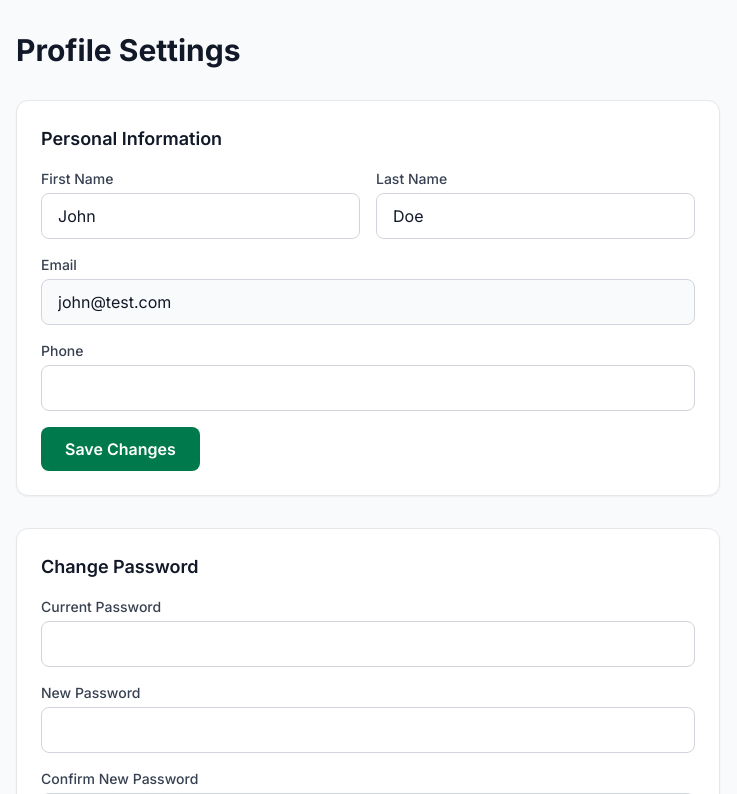
Test: ProfilePage › should show success message when password changed
Type "old123" into the password field below "Current Password" at (368, 644), box [41, 621, 695, 667]
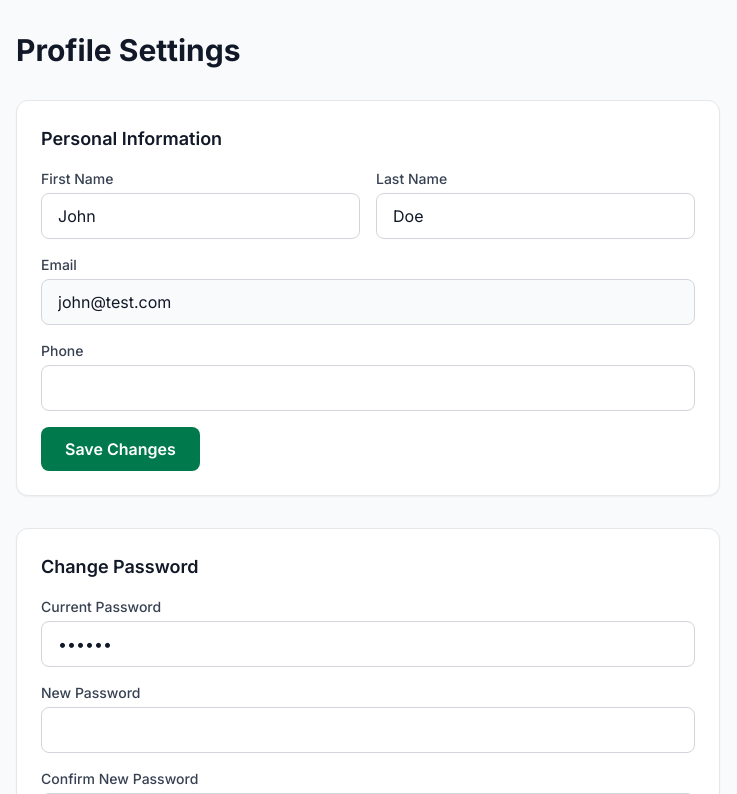
Type "new456Pass" into the 2nd password field at (368, 730), box [41, 707, 695, 753]
(page scrolled)
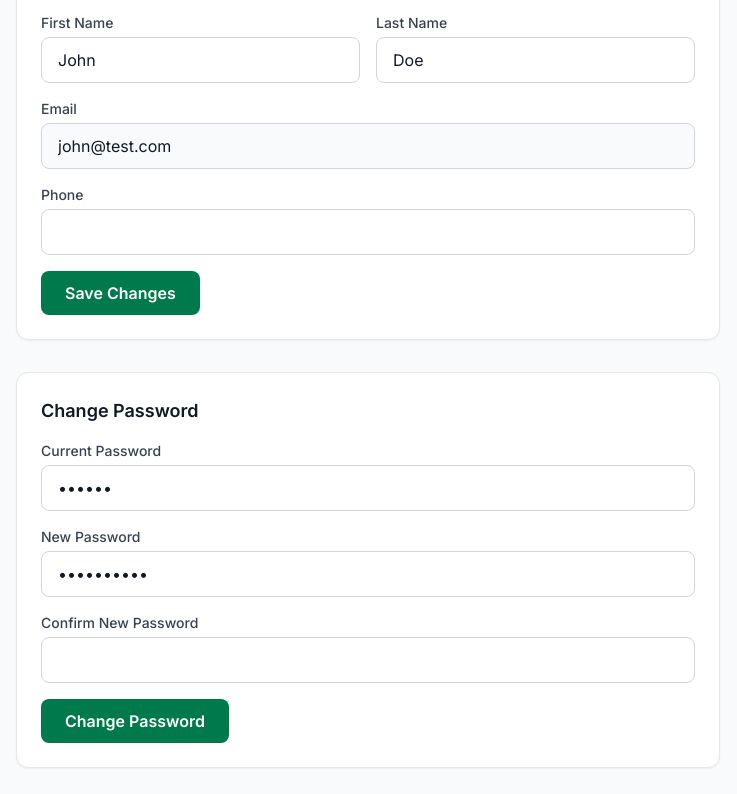
Type "new456Pass" into the password field below "Confirm New Password" at (368, 660), box [41, 637, 695, 683]
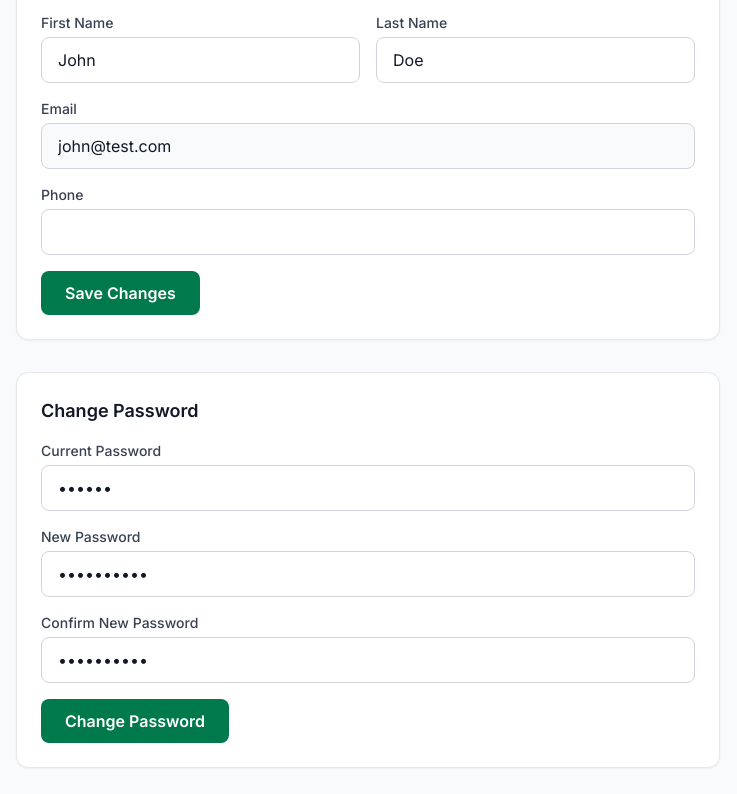
Submit the form that starts with "Current Password", box [41, 441, 695, 743]
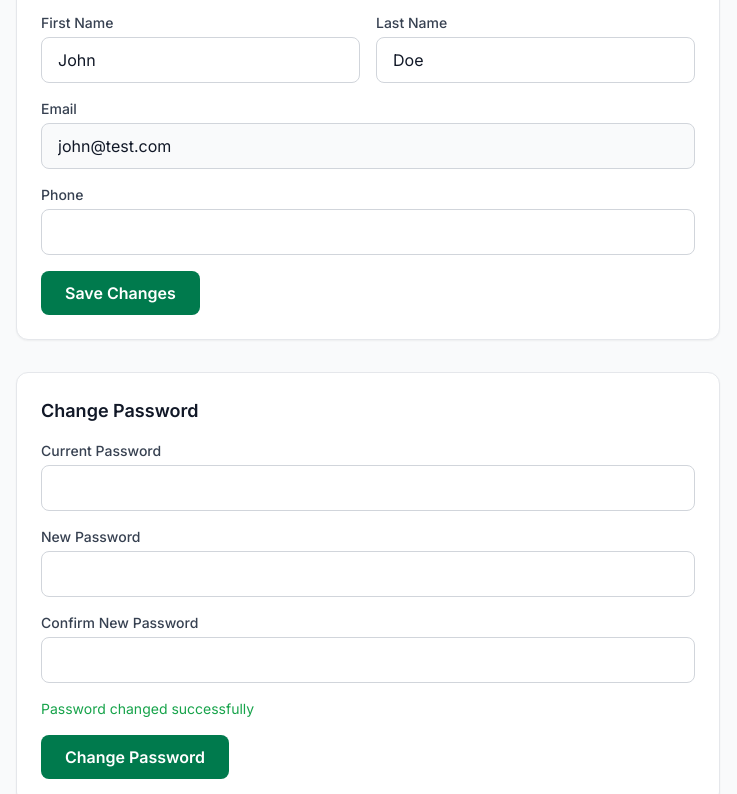
Expected: the text "Password changed successfully" is shown, [41, 700, 254, 717]
